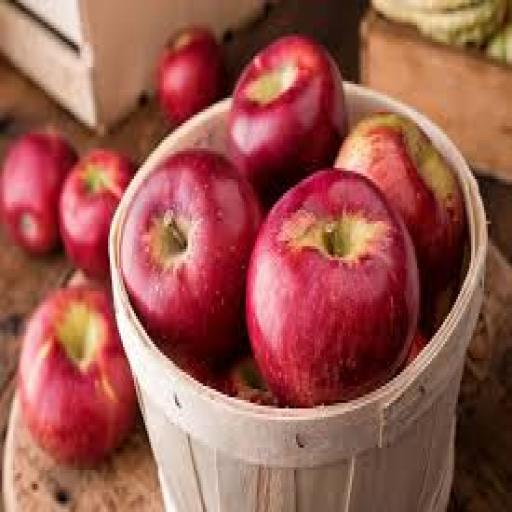Apple: (246, 171, 418, 405), (122, 149, 260, 360), (336, 112, 465, 330), (19, 286, 137, 464), (230, 37, 348, 204), (60, 149, 134, 279), (0, 132, 76, 254), (157, 28, 225, 123)
